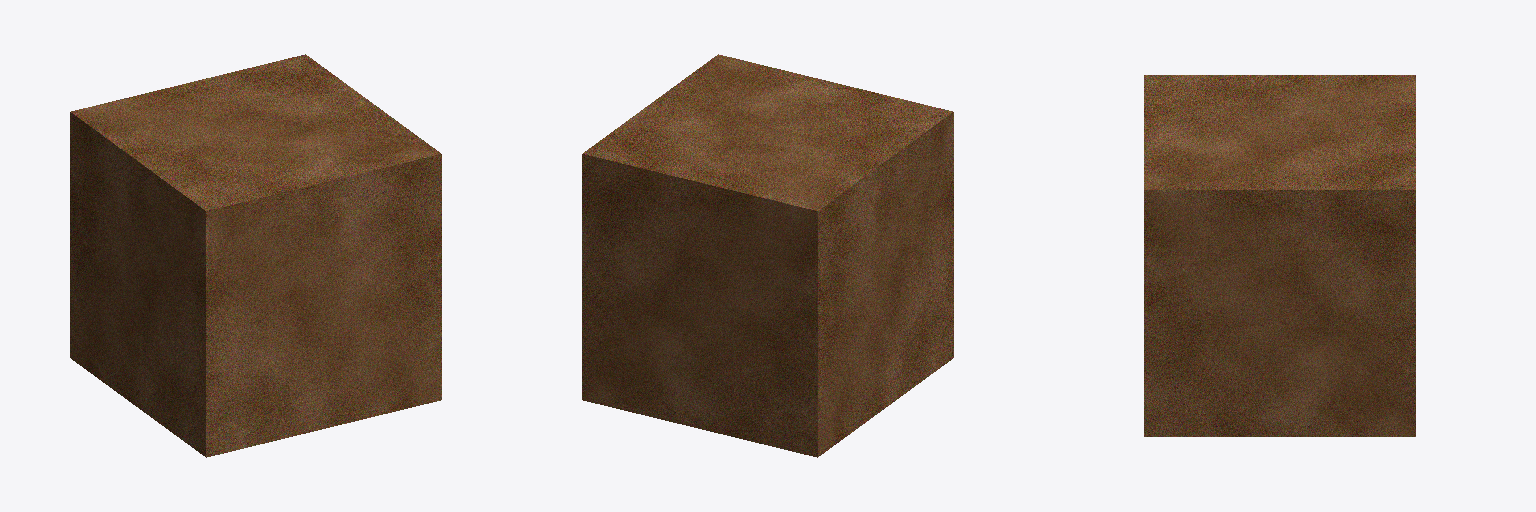
3 renders of one model, left to right at view 1: azimuth 30°, elevation 25°; view 2: azimuth 150°, elevation 25°; view 3: azimuth 270°, elevation 25°, orthographic.
Parts seen in each view (by area): view 1: Cube; view 2: Cube; view 3: Cube.
Part boxes in pixels (x1,y1,x2,y2): Cube: (70,54,441,457); Cube: (582,54,953,457); Cube: (1144,75,1415,436).
Size of the model in its own units: 1 by 1 by 1.
Materials: 1 (1 with a texture image).